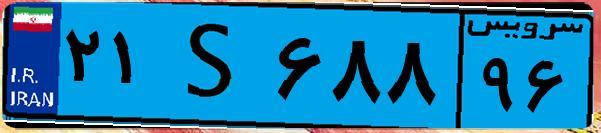1: (110, 28, 158, 98)
2: (57, 26, 110, 100)
6: (270, 28, 330, 110), (525, 38, 570, 115)
8: (385, 28, 445, 110), (330, 28, 385, 110)
9: (475, 38, 525, 113)
S: (158, 12, 270, 120)
